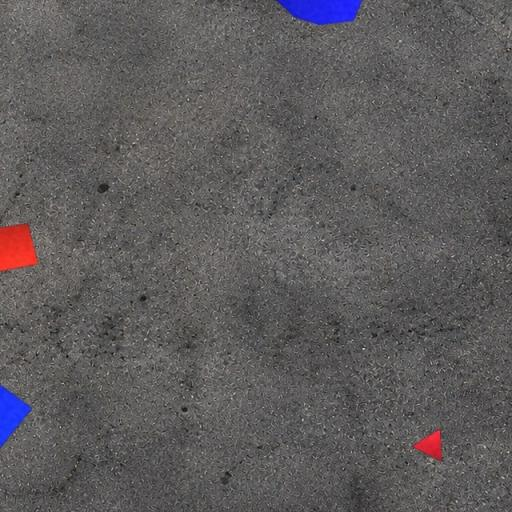RED_SQUARE: (0, 223, 38, 272)
